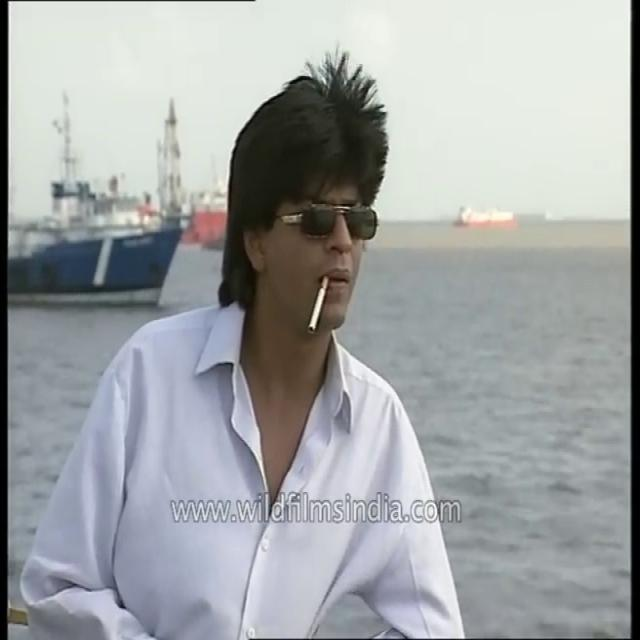Smooking: (296, 268, 342, 347)
